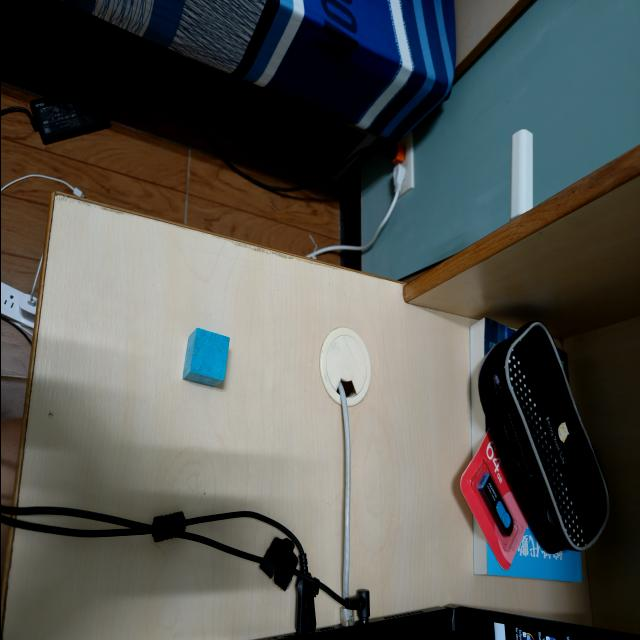blue_block: (181, 328, 229, 390)
